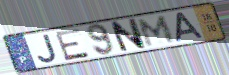9: (87, 23, 117, 58)
A: (175, 11, 206, 44)
E: (53, 27, 92, 62)
J: (36, 33, 59, 64)
M: (137, 14, 177, 48)
N: (108, 17, 149, 54)
